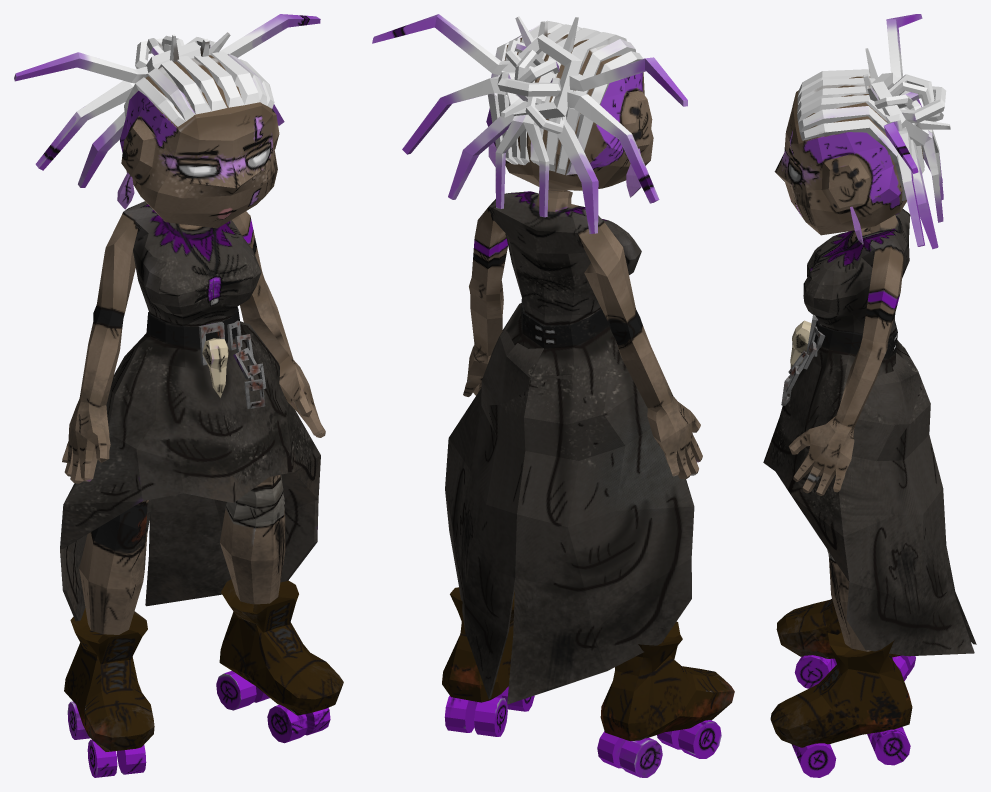
File: bruja_000000.obj
3 renders of one model, left to right at view 1: azimuth 30°, elevation 25°; view 2: azimuth 150°, elevation 25°; view 3: azimuth 270°, elevation 25°, orthographic. The views are drawn at different scales.
Visible parts, largest first — view 1: Bruja_Plane.001; view 2: Bruja_Plane.001; view 3: Bruja_Plane.001.
Part boxes in pixels (x1,y1,x2,y2): Bruja_Plane.001: (14,14,343,777); Bruja_Plane.001: (372,14,734,777); Bruja_Plane.001: (763,14,976,777).
Size of the model in its own units: 7.47 by 16.58 by 4.75.
1 material, 1 textured.
